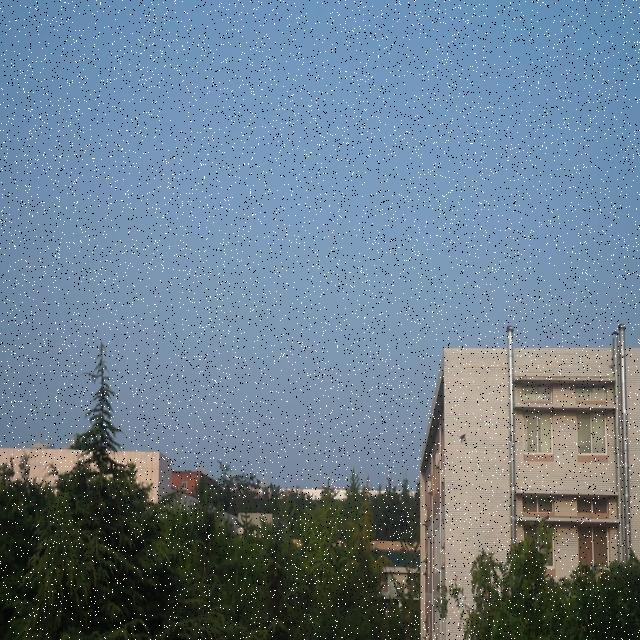UAV: (460, 434, 466, 444)
